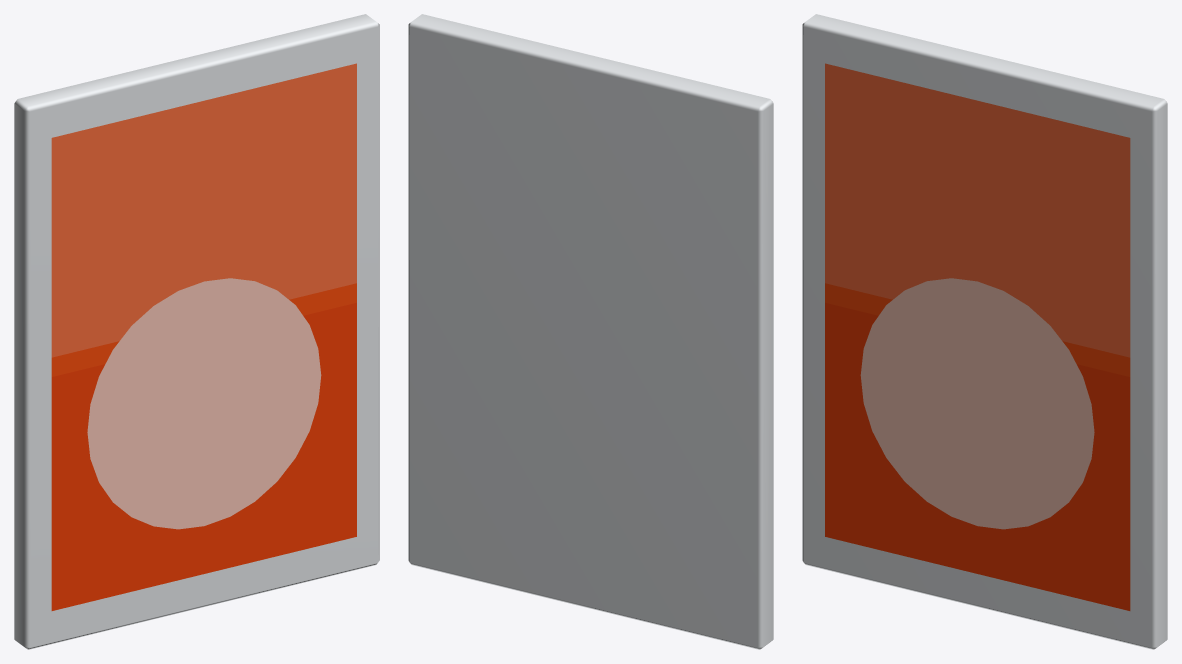
File: Public_4_Cinema_Poster_1.glb
3 renders of one model, left to right at view 1: azimuth 30°, elevation 25°; view 2: azimuth 150°, elevation 25°; view 3: azimuth 330°, elevation 25°, orthographic.
Parts seen in each view (by area): view 1: Public_4_Cinema_Poster_1; view 2: Public_4_Cinema_Poster_1; view 3: Public_4_Cinema_Poster_1.
Part boxes in pixels (bbox=[...]): Public_4_Cinema_Poster_1: bbox=[14, 14, 379, 649]; Public_4_Cinema_Poster_1: bbox=[408, 14, 773, 649]; Public_4_Cinema_Poster_1: bbox=[802, 14, 1167, 649].
Bounding box in the file's own units: 1.13 × 1.65 × 0.0803.
1 material, 1 textured.
